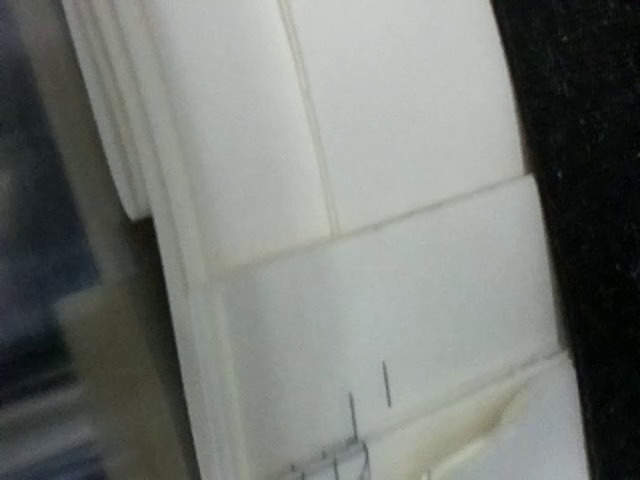not_sure: (276, 390, 381, 479)
